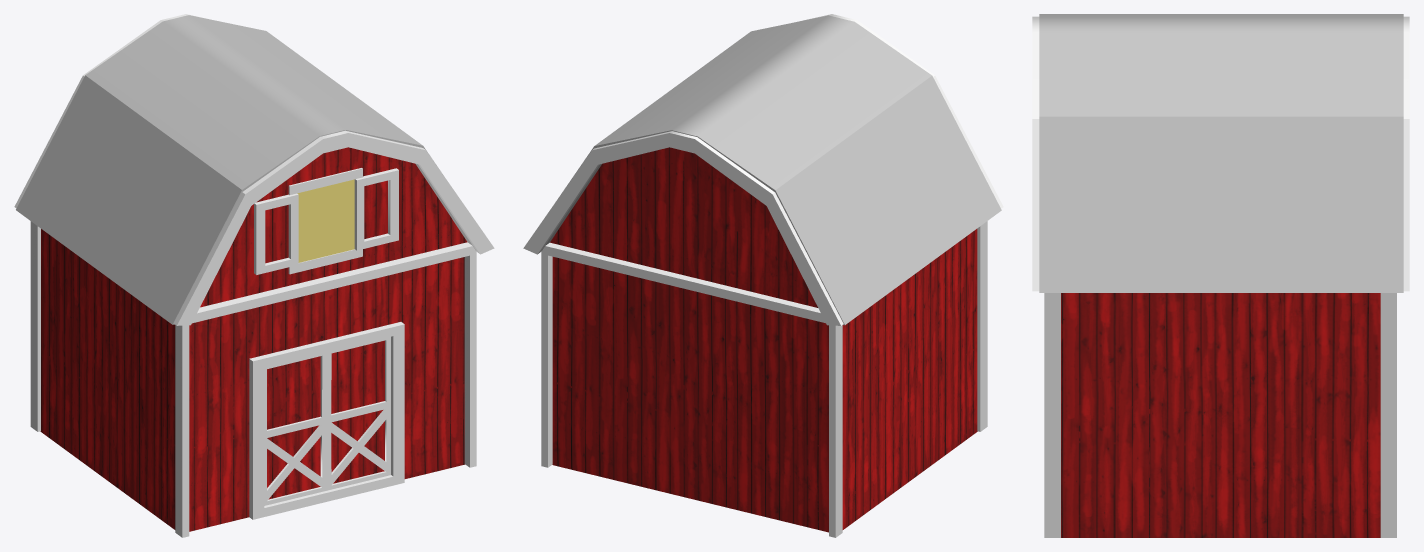
Rendered from barn.fbx.
3 renders of one model, left to right at view 1: azimuth 30°, elevation 25°; view 2: azimuth 150°, elevation 25°; view 3: azimuth 270°, elevation 25°, orthographic. The views are drawn at different scales.
Parts seen in each view (by area): view 1: barn, roof1, barn_Siding, door_Outer, roof_Lining, door, window, windowlight, barn_Siding2, roof_Lining2; view 2: barn, roof1, barn_Siding2, roof_Lining2, barn_Siding, roof_Lining; view 3: roof1, barn, barn_Siding2, barn_Siding, roof_Lining, roof_Lining2.
Part boxes in pixels (x1,y1,x2,y2): barn: (40,147,467,531); roof1: (16,15,475,324); barn_Siding: (175,242,476,537); door_Outer: (249,322,404,519); roof_Lining: (174,130,494,325); door: (264,336,390,505); window: (254,168,398,274); windowlight: (297,179,354,262); barn_Siding2: (30,221,40,431); roof_Lining2: (14,14,204,208); barn: (550,147,977,532); roof1: (542,15,1001,325); barn_Siding2: (541,242,842,537); roof_Lining2: (523,131,843,325); barn_Siding: (977,221,987,431); roof_Lining: (800,14,1003,208); roof1: (1039,14,1403,292); barn: (1061,293,1380,537); barn_Siding2: (1380,293,1396,537); barn_Siding: (1044,293,1060,537); roof_Lining: (1032,16,1039,291); roof_Lining2: (1403,16,1409,291).
Bounding box in the file's own units: 4.37 × 4.84 × 3.84.
